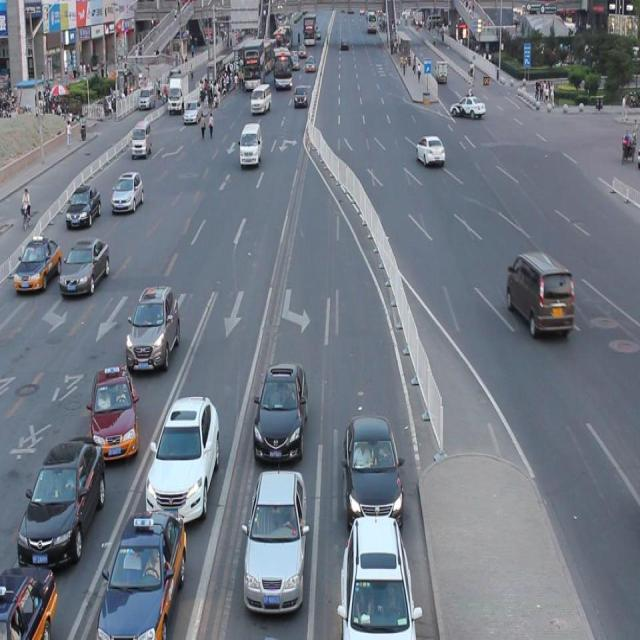car: (94, 507, 188, 640), (18, 432, 106, 569), (338, 509, 417, 640), (144, 389, 221, 522), (244, 466, 308, 614), (343, 408, 404, 526), (252, 358, 309, 462), (505, 250, 573, 337), (125, 280, 181, 369), (89, 362, 140, 458), (0, 560, 56, 640), (59, 237, 110, 298), (13, 236, 62, 294), (65, 184, 102, 230), (110, 171, 145, 214), (416, 134, 444, 167)
